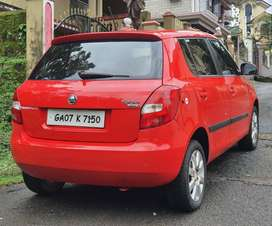GA07K7150: (46, 109, 104, 127)
